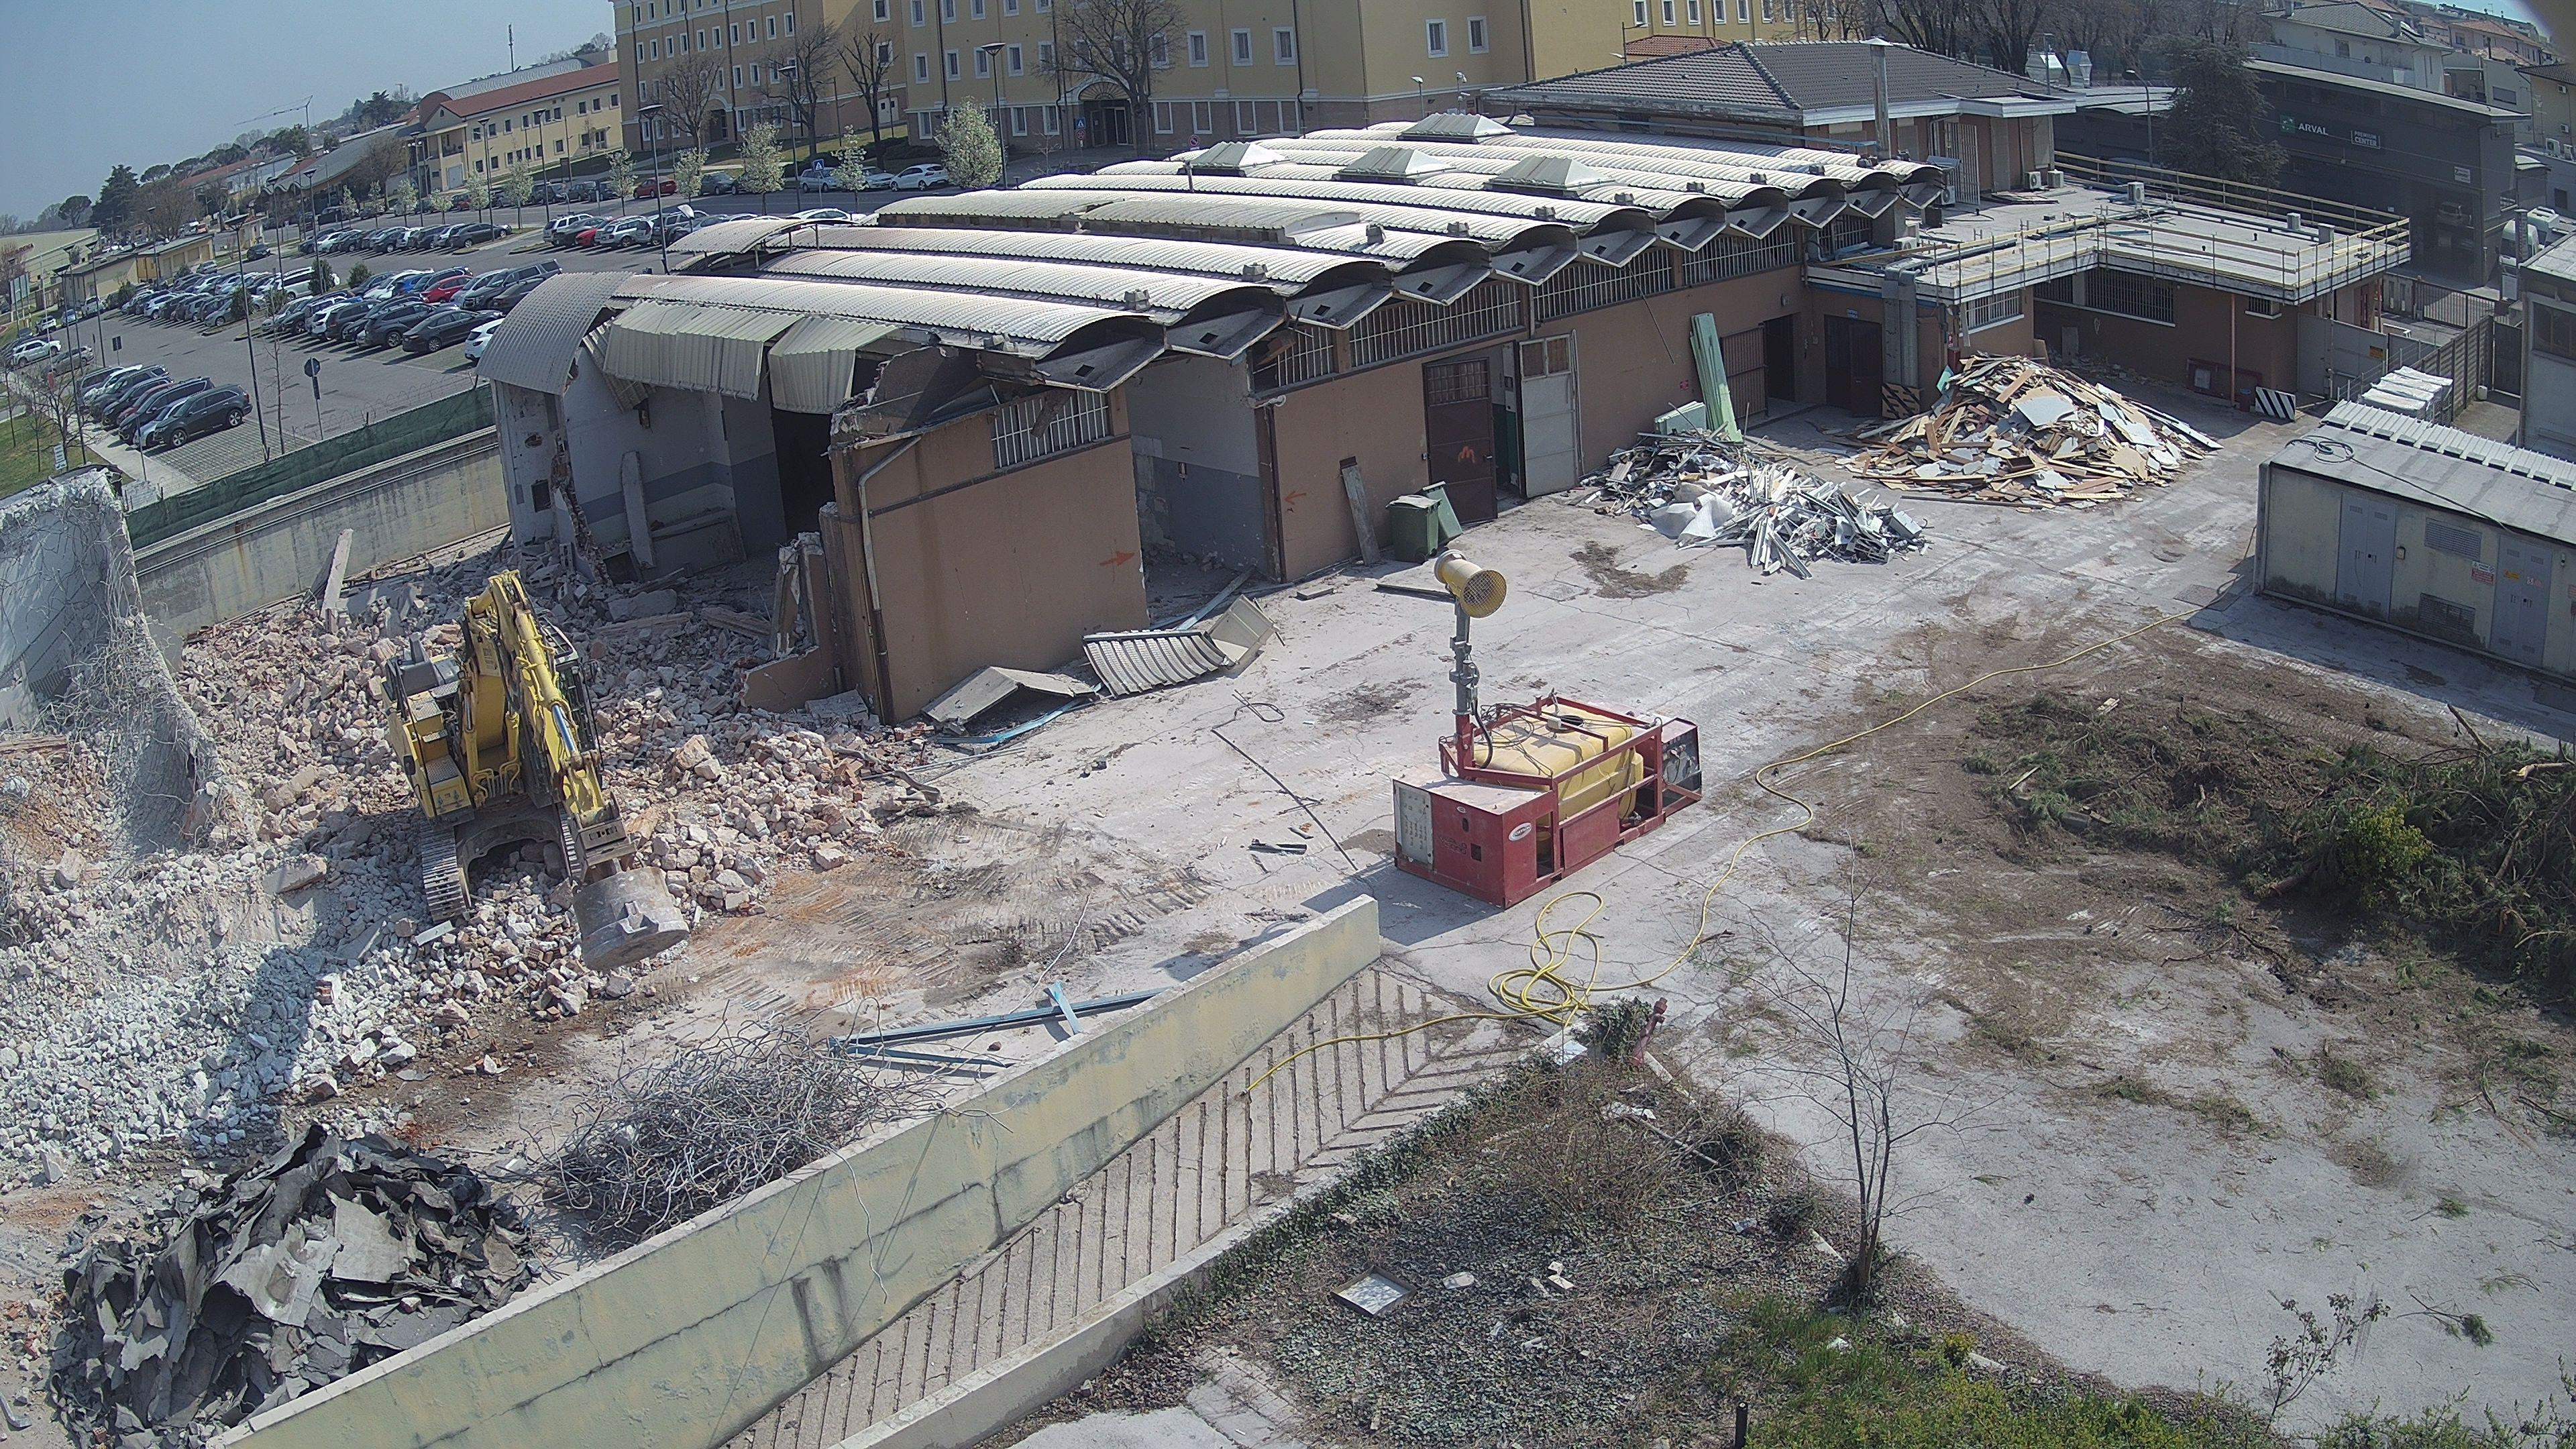Cars: (152, 382, 253, 448), (363, 301, 460, 347), (402, 310, 504, 352), (39, 345, 94, 379), (890, 163, 950, 193), (451, 223, 511, 248), (11, 340, 62, 366), (800, 166, 844, 193), (633, 175, 678, 198), (2434, 202, 2468, 230), (695, 172, 736, 195), (2450, 225, 2473, 255), (80, 295, 106, 318), (246, 244, 271, 262), (35, 315, 57, 333), (60, 308, 78, 327), (196, 260, 218, 274)
excavator: (380, 570, 688, 971)
